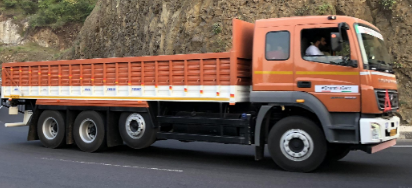truck: (1, 14, 406, 174)
